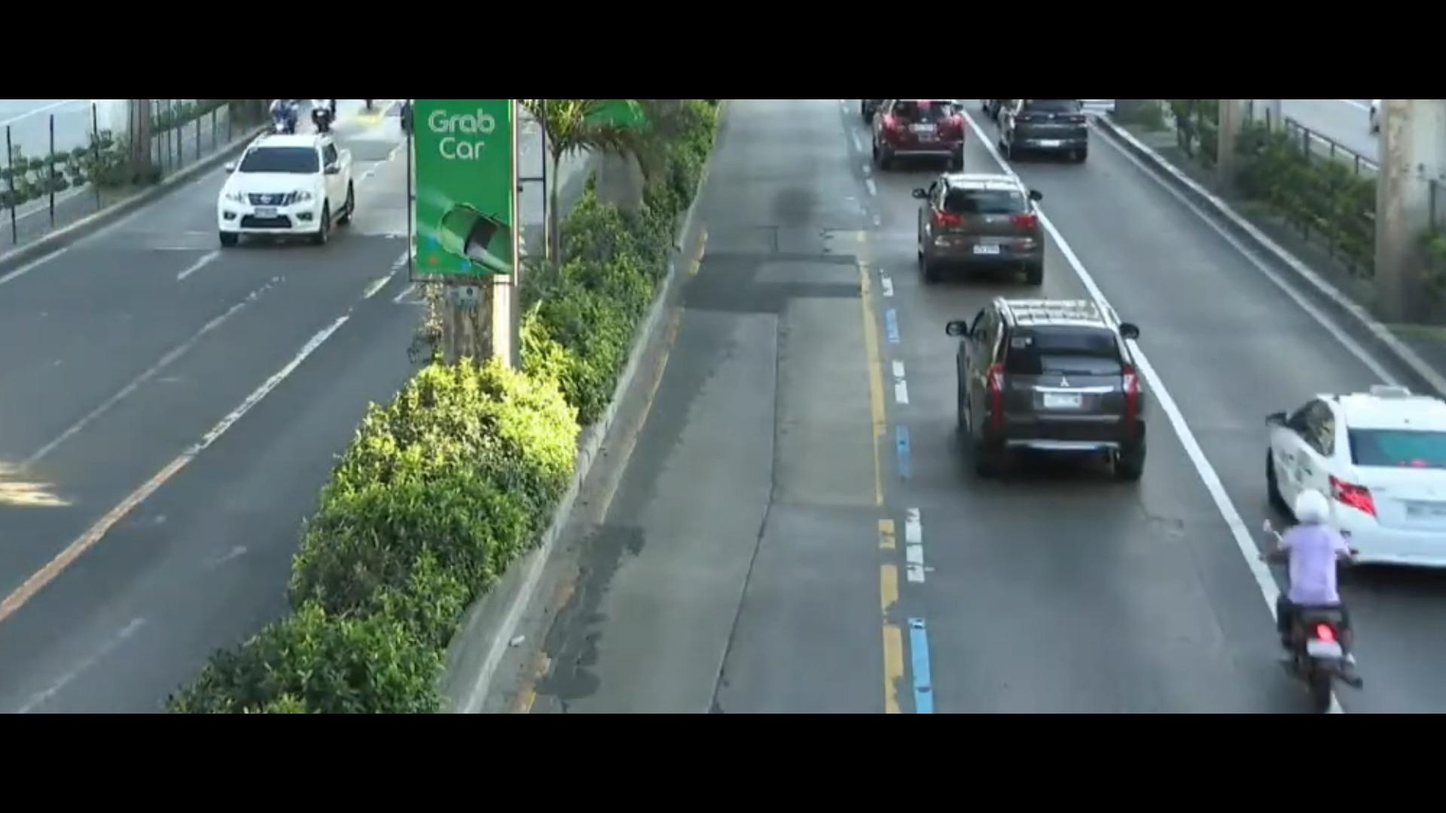Motorcycle: (1226, 480, 1381, 687)
Pickup: (190, 132, 371, 244)
SUV: (925, 271, 1182, 514), (863, 98, 988, 171)
Sedan: (1241, 367, 1446, 590), (895, 149, 1075, 292)
